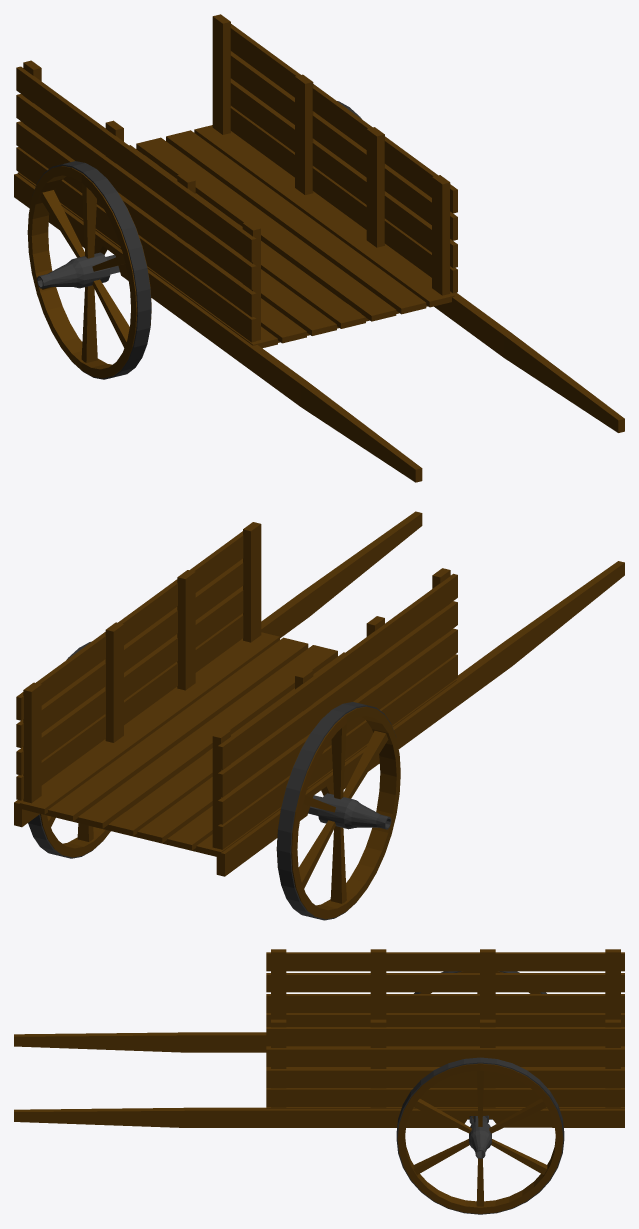
Rendered from Carreta.fbx.
3 renders of one model, top to bottom at view 1: azimuth 30°, elevation 25°; view 2: azimuth 150°, elevation 25°; view 3: azimuth 270°, elevation 25°, orthographic. The views are drawn at different scales.
Visible parts, largest first — view 1: Cube.035, Cube.014, Cube.031, Cube.043, Cube.042, Cube.013, Cylinder.006, Cube.039, Cube.041, Cube.015, Cube.032, Cube.033 (+17 smaller); view 2: Cube.035, Cube.014, Cube.031, Cube.043, Cube.042, Cube.013, Cylinder.006, Cube.041, Cube.015, Cube.033, Cube.032, Cube.039 (+19 smaller); view 3: Cube.039, Cube.015, Cube.032, Cube.034, Cube.043, Cube.042, Cube.033, Cube.041, Cube.035, Cylinder, Cube.040, Cylinder.002 (+12 smaller).
Part boxes in pixels (x1,y1,x2,y2): Cube.035: (14,173,422,482); Cube.014: (166,130,426,314); Cube.031: (136,137,396,321); Cube.043: (16,66,256,262); Cube.042: (16,94,256,289); Cube.013: (194,125,454,307); Cylinder.006: (27,166,151,378); Cube.039: (231,131,624,432); Cube.041: (16,121,256,317); Cube.015: (230,24,457,213); Cube.032: (230,51,457,240); Cube.033: (230,78,457,268); Cube.035: (216,561,624,876); Cube.014: (48,637,308,821); Cube.031: (77,645,337,828); Cube.043: (217,573,457,769); Cube.042: (217,601,457,797); Cube.013: (19,632,279,814); Cylinder.006: (276,706,400,919); Cube.041: (217,628,457,824); Cube.015: (16,531,243,720); Cube.033: (16,586,243,775); Cube.032: (16,558,243,747); Cube.039: (14,511,422,827); Cube.039: (14,1107,624,1127); Cube.015: (266,1027,624,1046); Cube.032: (266,1048,624,1066); Cube.034: (266,1088,624,1106); Cube.043: (266,952,624,971); Cube.042: (266,973,624,992); Cube.033: (266,1069,624,1087); Cube.041: (266,994,624,1012); Cube.035: (14,1032,266,1052); Cylinder: (397,1063,563,1213); Cube.040: (266,1013,624,1026); Cylinder.002: (396,1057,564,1214).
Bounding box in the file's own units: 297 × 189 × 585.
